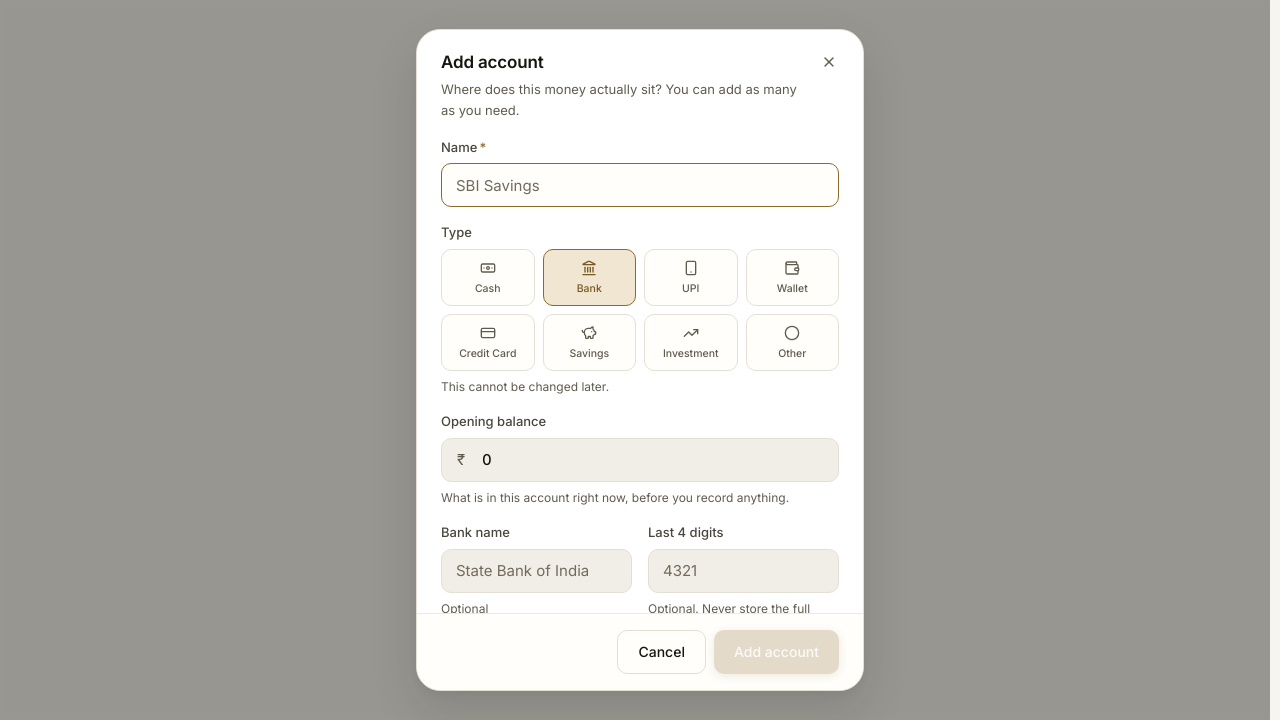
Scenario: creating an account while offline (§Phase 15 follow-up) › queues the create under an idempotency key, tells the user, and closes — it does not claim the account exists
In the field labelled "Name*": [640, 185] box x1=441 y1=163 x2=839 y2=207, type "Travel wallet"
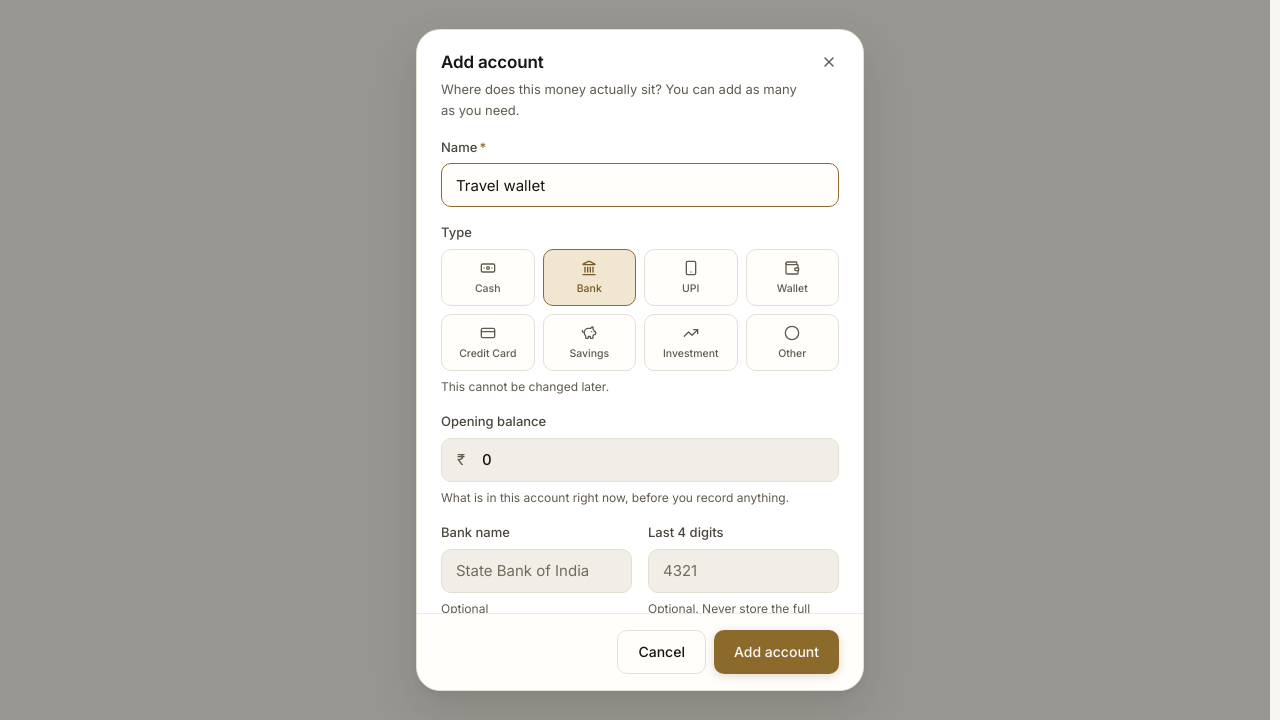
Click the button "Add account": [776, 652] box x1=714 y1=630 x2=839 y2=674
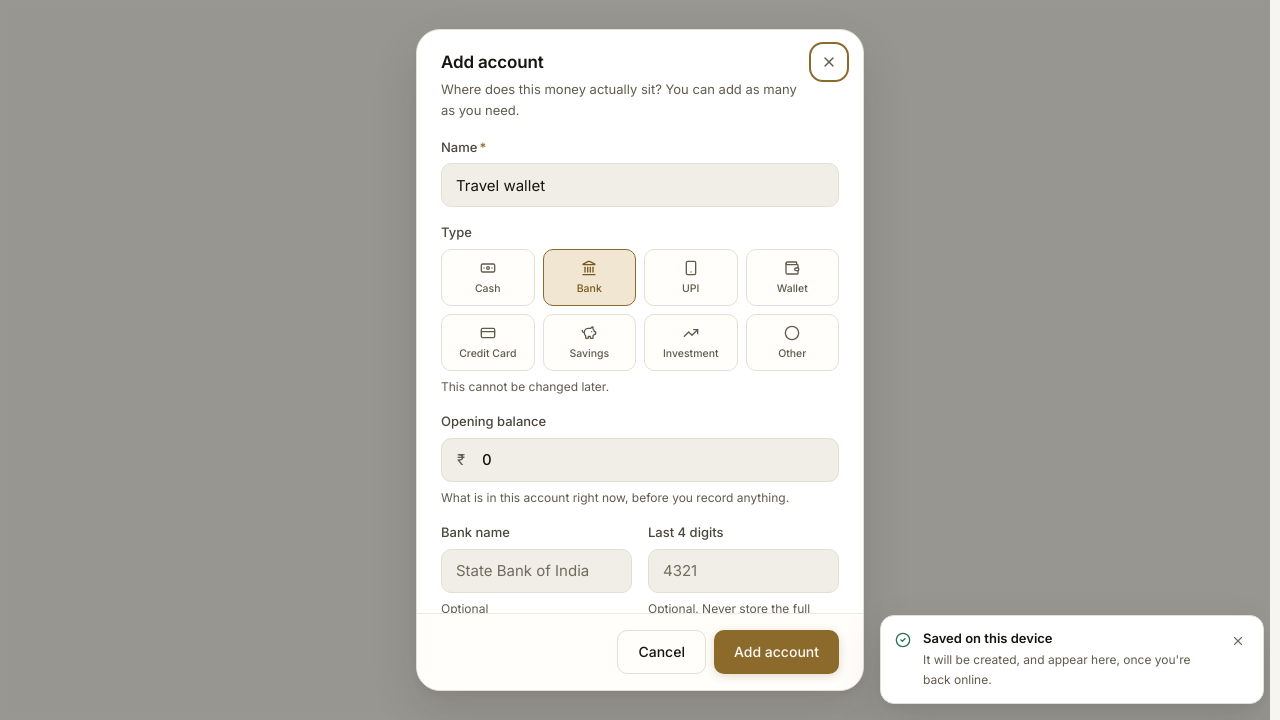
Now the text "Saved on this device" is shown, box x1=923 y1=630 x2=1053 y2=646
